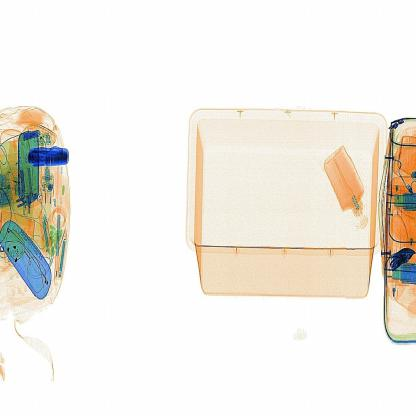scissors: (12, 143, 80, 183)
